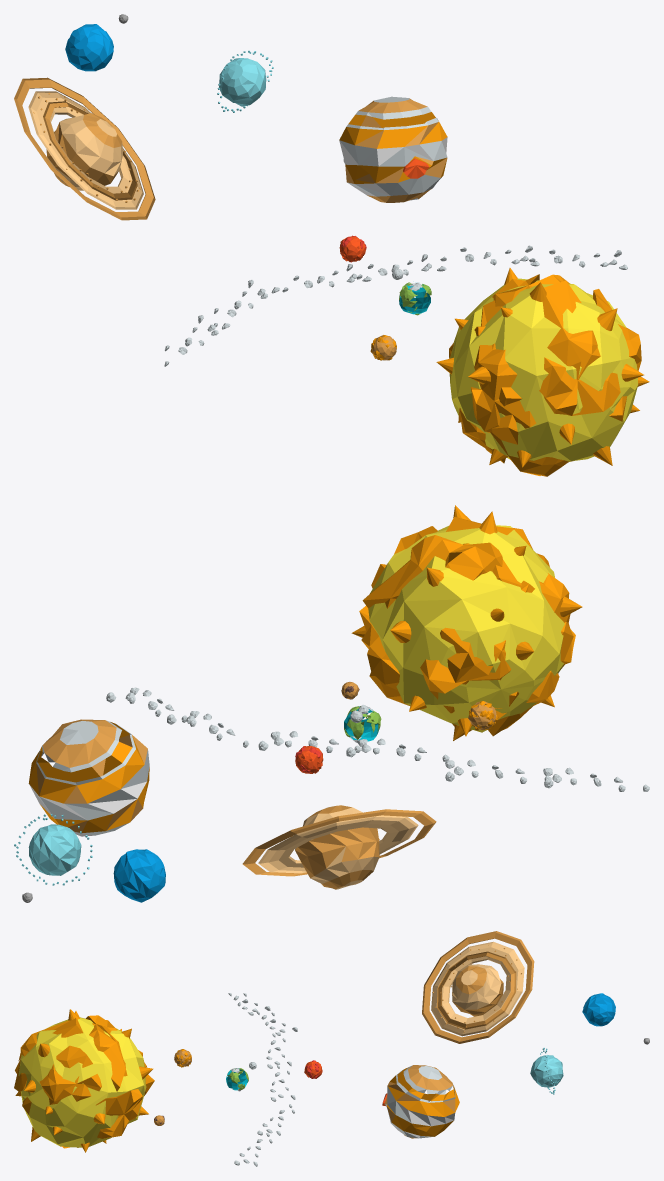
File: solar-system.glb
3 views of the same model, one above another, from view 1: azimuth 30°, elevation 25°; view 2: azimuth 150°, elevation 25°; view 3: azimuth 270°, elevation 25° (orthographic). The views are drawn at different scales.
Parts seen in each view (by area): view 1: Node; view 2: Node, mars; view 3: Node.
Part boxes in pixels (x1,y1,x2,y2): Node: (14, 14, 649, 476); Node: (14, 505, 649, 902); mars: (295, 746, 323, 773); Node: (14, 931, 649, 1166).
Bounding box in the file's own units: 5.76 × 2.33 × 9.72.
